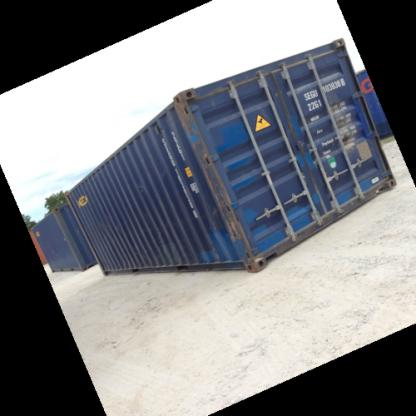Damage: (174, 95, 214, 181), (212, 176, 248, 251), (141, 237, 187, 264)
